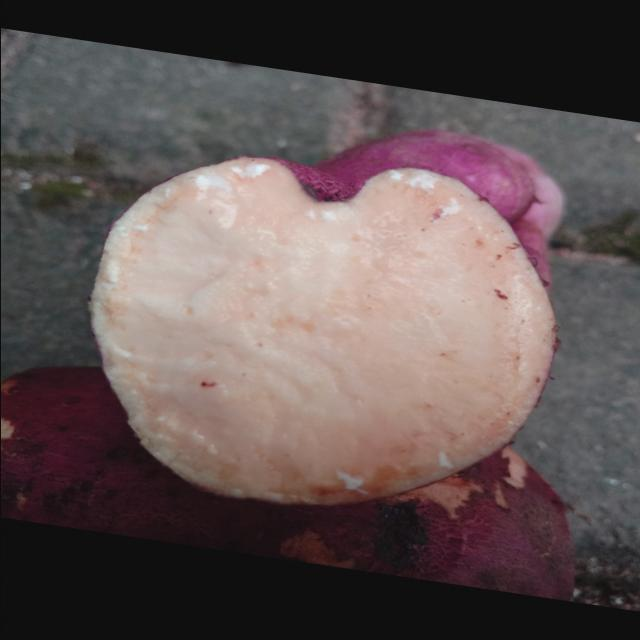Healthy Sweet Potato: (90, 158, 555, 504)
